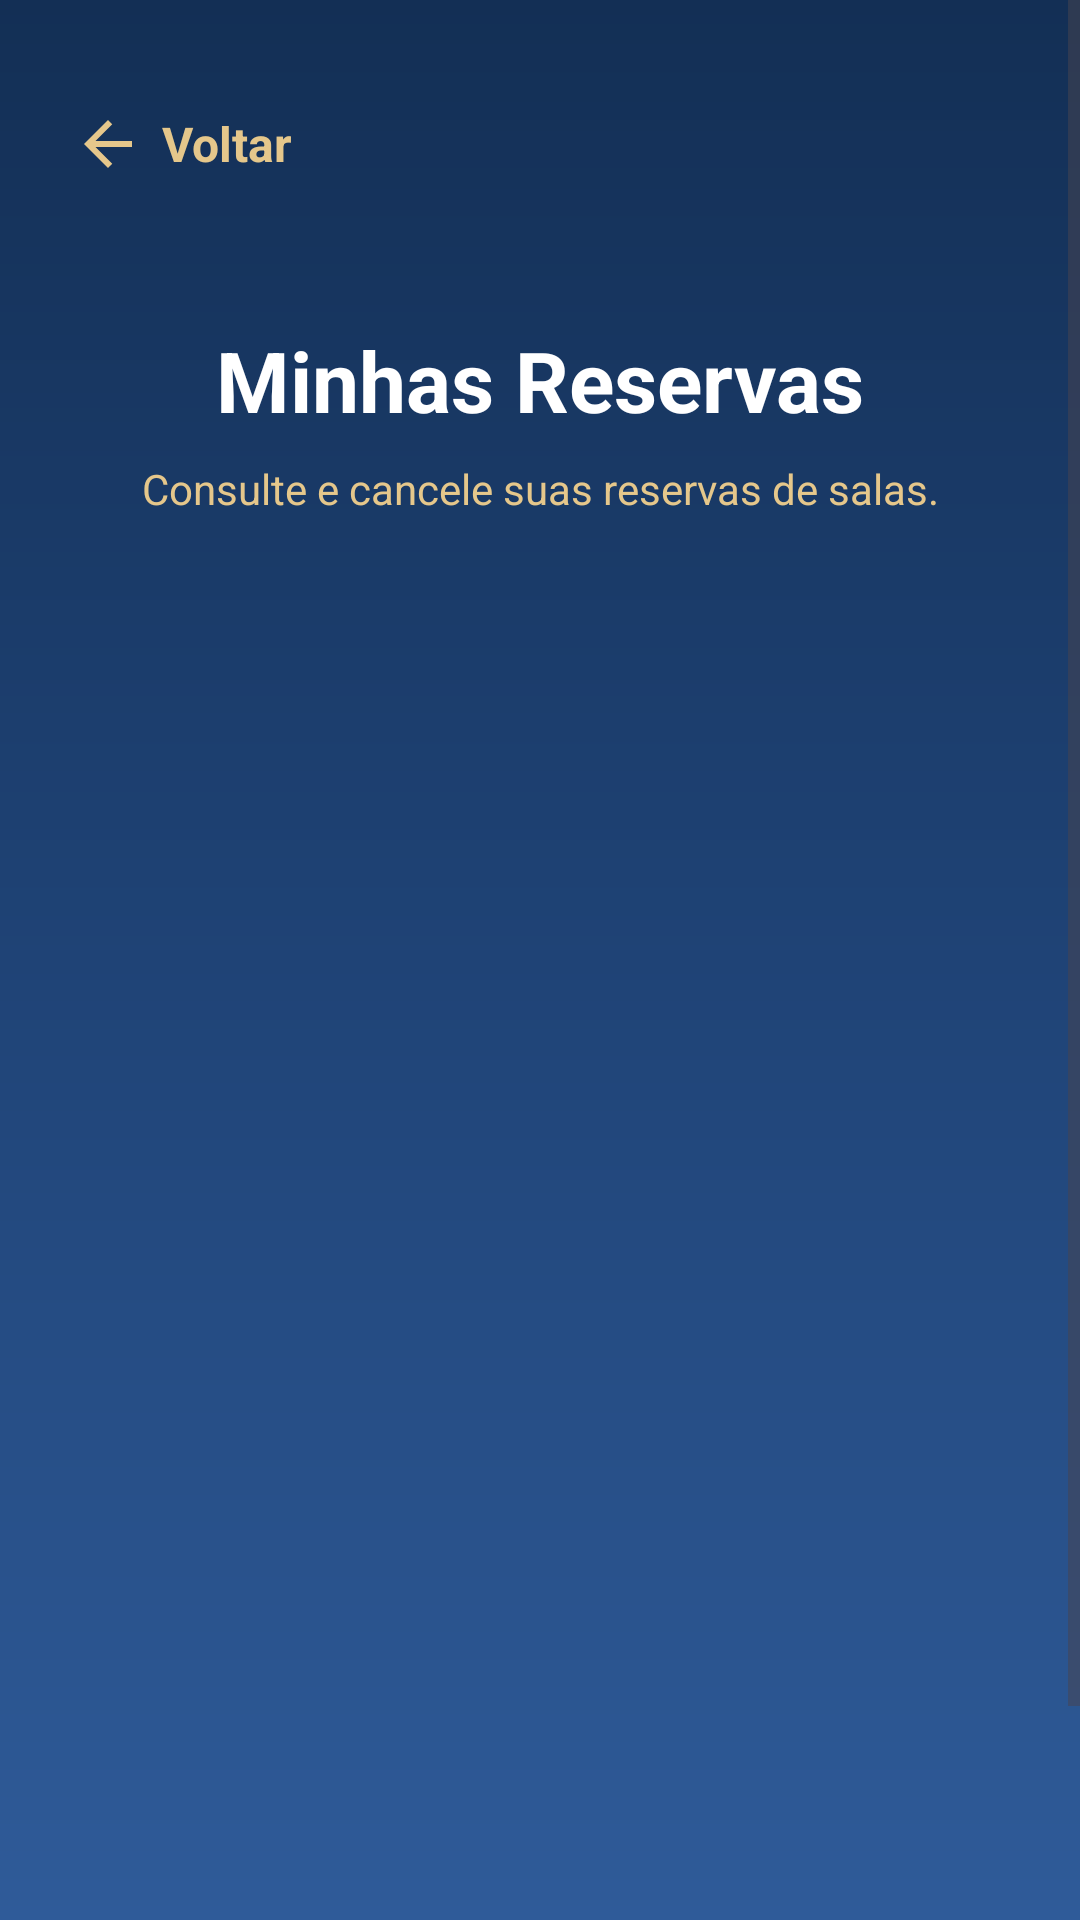

Locate icon controls on the screen. Image size 1080*1920, boxes as [x1, y1, x2, y2].
arrow back yarooms: [84, 120, 132, 168]
